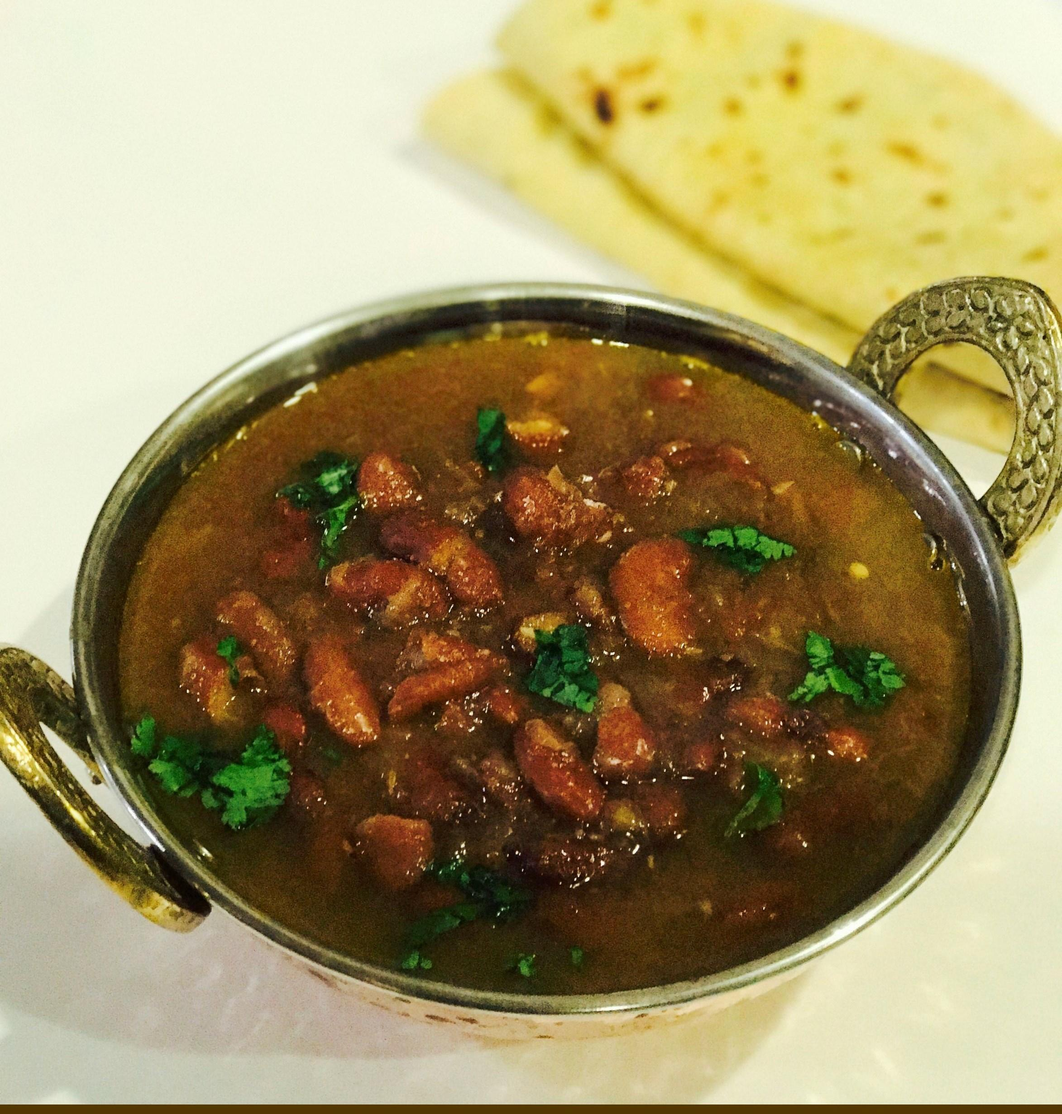RajmaCurry: (109, 335, 971, 975)
